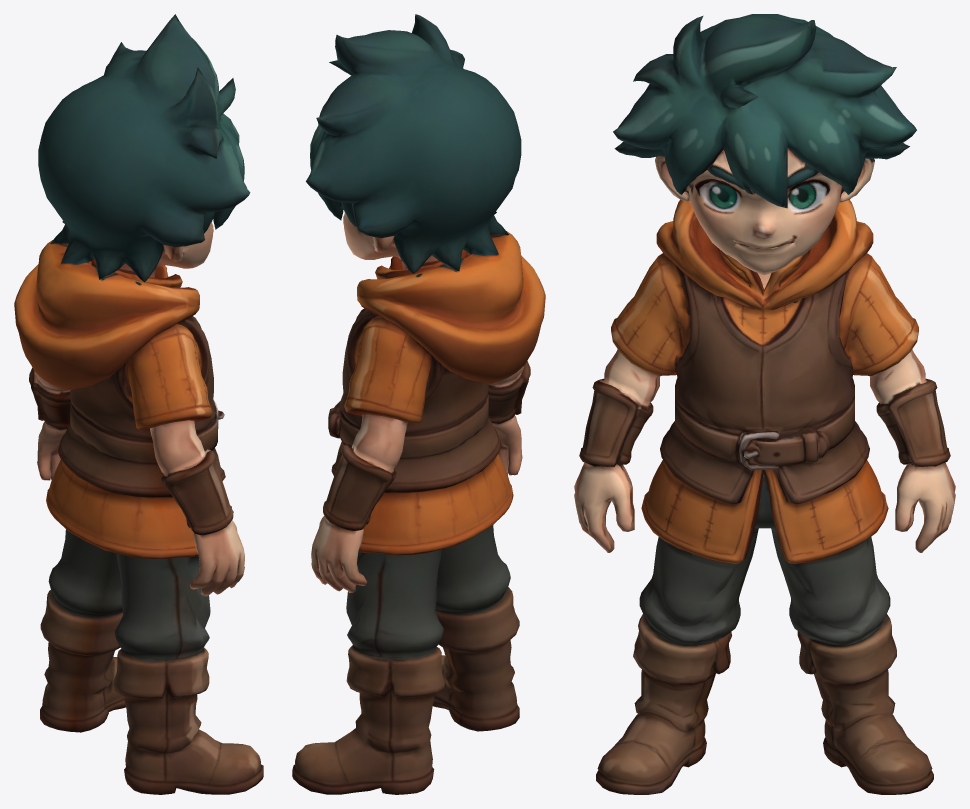
File: knappe-niedlich.fbx
3 views of the same model, side by side, from view 1: azimuth 30°, elevation 25°; view 2: azimuth 150°, elevation 25°; view 3: azimuth 270°, elevation 25° (orthographic). The views are drawn at different scales.
Visible parts, largest first — view 1: tripo_node_9a45f7e9-f41b-48f6-a7e7-cd92437bbee3; view 2: tripo_node_9a45f7e9-f41b-48f6-a7e7-cd92437bbee3; view 3: tripo_node_9a45f7e9-f41b-48f6-a7e7-cd92437bbee3.
Boxes of the visible parts, x1,y1,x2,y2 form: tripo_node_9a45f7e9-f41b-48f6-a7e7-cd92437bbee3: (14, 14, 263, 794); tripo_node_9a45f7e9-f41b-48f6-a7e7-cd92437bbee3: (292, 14, 545, 794); tripo_node_9a45f7e9-f41b-48f6-a7e7-cd92437bbee3: (574, 14, 955, 794).
Bounding box in the file's own units: 0.2969 × 0.9788 × 0.4348.
1 material, 1 textured.
